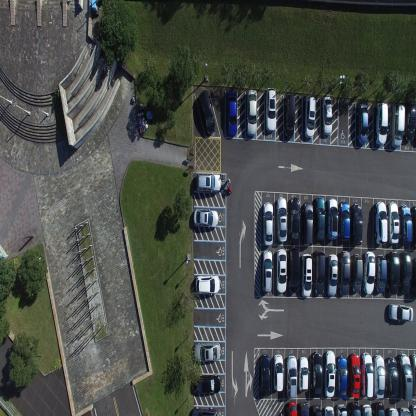car: (198, 89, 215, 134), (390, 102, 406, 148), (397, 352, 412, 400), (282, 91, 296, 140), (374, 101, 389, 145), (192, 372, 221, 394), (323, 349, 336, 397), (374, 201, 388, 245), (192, 341, 221, 362), (195, 171, 222, 193), (288, 246, 300, 295), (289, 196, 301, 244), (313, 248, 325, 296), (193, 206, 219, 228), (303, 96, 316, 140), (301, 252, 313, 299), (338, 249, 350, 296), (399, 250, 412, 293), (275, 196, 287, 242), (194, 274, 220, 295), (261, 249, 273, 294), (262, 201, 274, 246), (276, 248, 288, 293), (301, 201, 313, 246), (246, 87, 257, 136), (385, 357, 398, 398), (404, 98, 416, 142), (348, 353, 360, 397), (310, 350, 322, 394), (326, 252, 338, 296), (363, 250, 375, 294), (387, 250, 399, 294), (350, 252, 363, 292), (338, 199, 350, 242), (399, 204, 412, 243), (227, 90, 238, 136), (326, 198, 338, 240), (350, 202, 362, 244), (388, 302, 413, 322), (259, 352, 270, 397), (361, 352, 372, 397), (387, 202, 399, 243), (286, 354, 297, 398), (357, 102, 368, 146), (373, 354, 384, 398), (336, 355, 347, 398), (315, 196, 325, 242), (272, 353, 284, 391), (266, 86, 276, 130), (322, 95, 332, 136), (376, 255, 386, 293), (298, 356, 308, 392), (191, 406, 217, 416), (410, 205, 416, 248), (410, 353, 416, 395), (372, 402, 385, 416), (349, 400, 361, 415), (298, 401, 310, 415), (286, 401, 297, 415), (310, 403, 322, 415), (335, 403, 347, 415), (361, 403, 372, 415), (386, 405, 399, 415), (412, 257, 415, 298), (323, 405, 335, 415), (400, 405, 410, 415), (411, 403, 416, 415)
